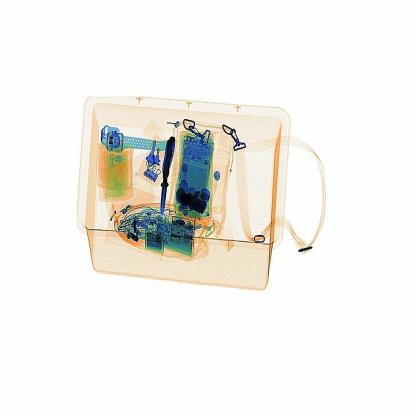gun: (148, 126, 179, 215)
